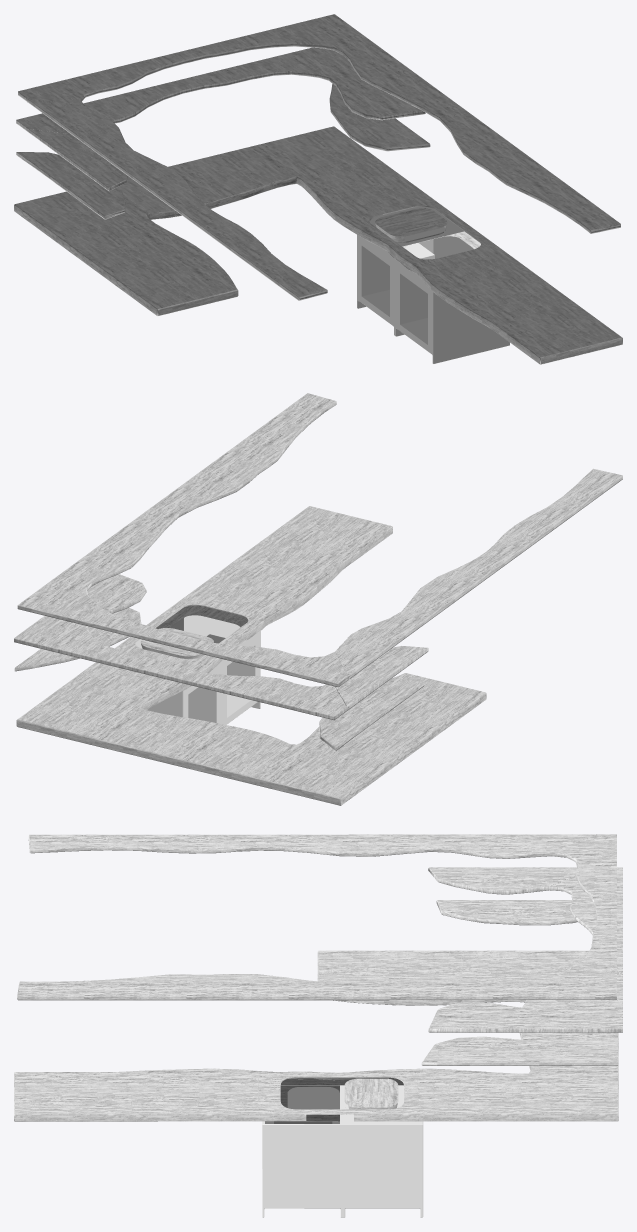
3 renders of one model, top to bottom at view 1: azimuth 30°, elevation 25°; view 2: azimuth 150°, elevation 25°; view 3: azimuth 270°, elevation 25°, orthographic. The views are drawn at different scales.
Parts seen in each view (by area): view 1: Cube.001_5cc5a1f7; view 2: Cube.001_5cc5a1f7; view 3: Cube.001_5cc5a1f7.
Part boxes in pixels (x1=…): Cube.001_5cc5a1f7: x1=14, y1=14, x2=622, y2=364; Cube.001_5cc5a1f7: x1=14, y1=393, x2=622, y2=805; Cube.001_5cc5a1f7: x1=14, y1=834, x2=622, y2=1217.
Bounding box in the file's own units: 3.85 × 2.36 × 5.96.
